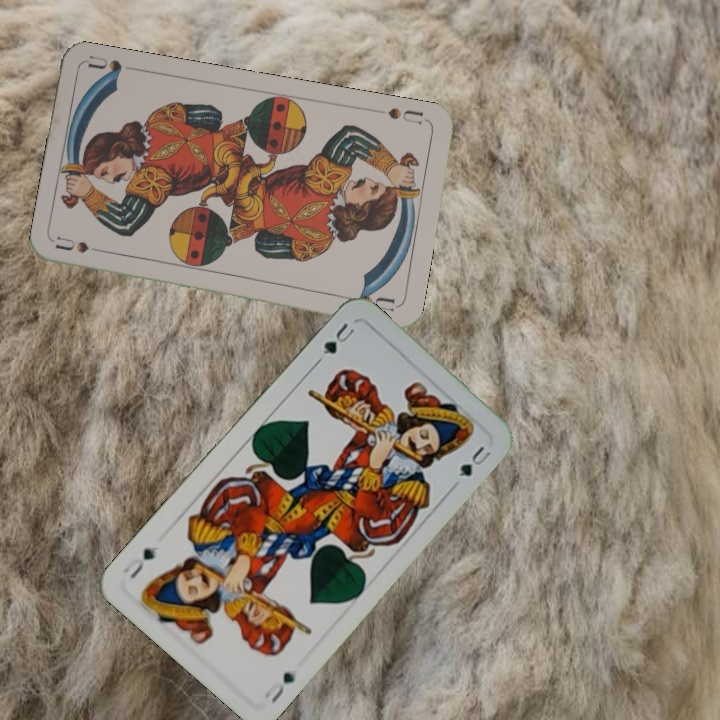GU: (313, 318, 358, 366), (260, 668, 299, 706)
SU: (53, 233, 112, 257), (384, 103, 426, 127)
